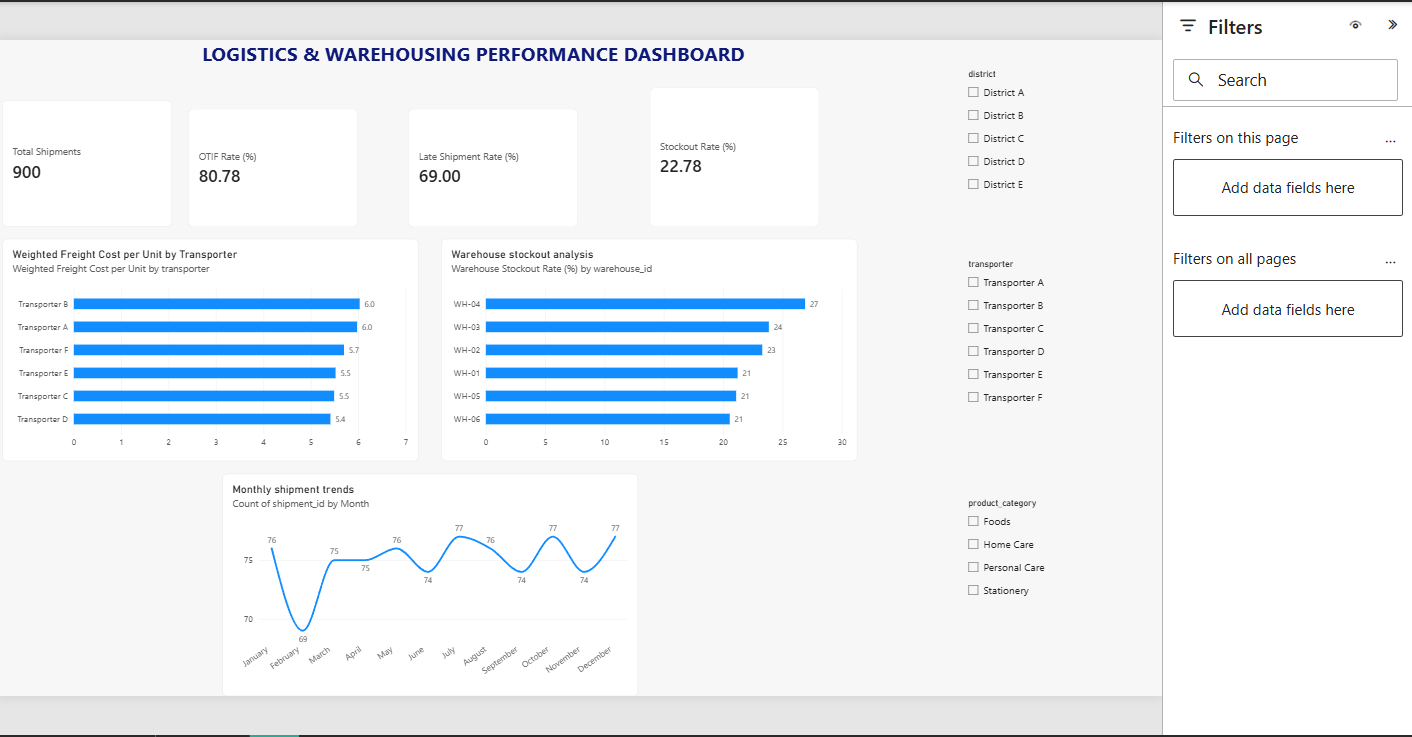

The page's visual inventory and layout, read from the dashboard file:
{"tool":"powerbi","page":{"name":"Page 1","canvas":[1920,1080],"ordinal":0},"visuals":[{"type":"cardVisual","fields":{"Data":["synthetic_logistics_operations.Total Shipments"]},"box":[10.3,98.8,279.9,209.9],"z":0},{"type":"cardVisual","fields":{"Data":["synthetic_logistics_operations.OTIF Rate (%)"]},"box":[317,113.2,279.9,195.5],"z":1},{"type":"cardVisual","fields":{"Data":["synthetic_logistics_operations.Late Shipment Rate (%)"]},"box":[679.2,113.2,279.9,195.5],"z":2},{"type":"cardVisual","fields":{"Data":["synthetic_logistics_operations.Stockout Rate (%)"]},"box":[1076.5,78.2,279.9,230.5],"z":3},{"type":"clusteredBarChart","title":"Weighted Freight Cost per Unit by Transporter","fields":{"Category":["synthetic_logistics_operations.transporter"],"Y":["synthetic_logistics_operations.Weighted Freight Cost per Unit"]},"box":[10.3,327.3,685.4,366.4],"z":4},{"type":"clusteredBarChart","title":"Warehouse stockout analysis","fields":{"Category":["synthetic_logistics_operations.warehouse_id"],"Y":["synthetic_logistics_operations.Warehouse Stockout Rate (%)"]},"box":[732.8,327.3,685.4,366.4],"z":5},{"type":"lineChart","title":"Monthly shipment trends","fields":{"Category":["synthetic_logistics_operations.shipment_date.Variation.Date Hierarchy.Month"],"Y":["Count(synthetic_logistics_operations.shipment_id)"]},"box":[372.6,714.2,685,366],"z":6},{"type":"slicer","fields":{"Values":["synthetic_logistics_operations.district"]},"box":[1593.1,47.3,284,327.3],"z":7},{"type":"slicer","fields":{"Values":["synthetic_logistics_operations.product_category"]},"box":[1593.1,753.3,284,327.3],"z":8},{"type":"slicer","fields":{"Values":["synthetic_logistics_operations.transporter"]},"box":[1593.1,360.2,284,327.3],"z":9},{"type":"textbox","box":[10.3,0,1552,47.3],"z":10},{"type":"textbox","box":[10,687,363,366],"z":11}]}

Visuals, with their boxes on the page's 1920x1080 design canvas (x1, y1, x2, y2). These are canvas units, not pixel positions in the 1412x737 screenshot, which may show the page scaled, cropped or inside an application window:
cardVisual - synthetic_logistics_operations.Total Shipments: [10,99,290,309]
cardVisual - synthetic_logistics_operations.OTIF Rate (%): [317,113,597,309]
cardVisual - synthetic_logistics_operations.Late Shipment Rate (%): [679,113,959,309]
cardVisual - synthetic_logistics_operations.Stockout Rate (%): [1076,78,1356,309]
"Weighted Freight Cost per Unit by Transporter" clusteredBarChart: [10,327,696,694]
"Warehouse stockout analysis" clusteredBarChart: [733,327,1418,694]
"Monthly shipment trends" lineChart: [373,714,1058,1080]
slicer - synthetic_logistics_operations.district: [1593,47,1877,375]
slicer - synthetic_logistics_operations.product_category: [1593,753,1877,1081]
slicer - synthetic_logistics_operations.transporter: [1593,360,1877,688]
textbox: [10,0,1562,47]
textbox: [10,687,373,1053]
